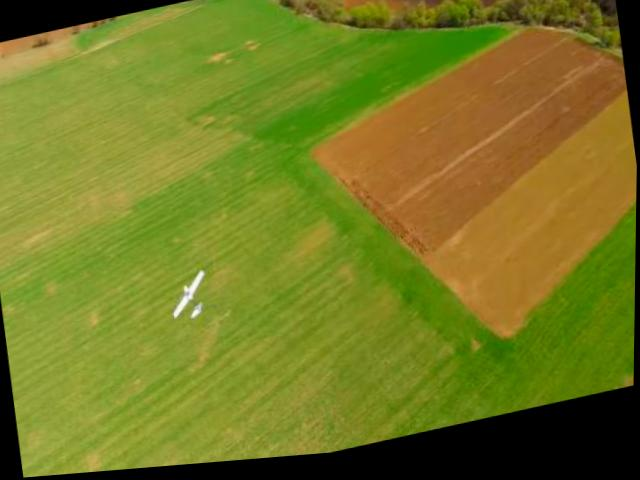uav: (164, 262, 220, 333)
